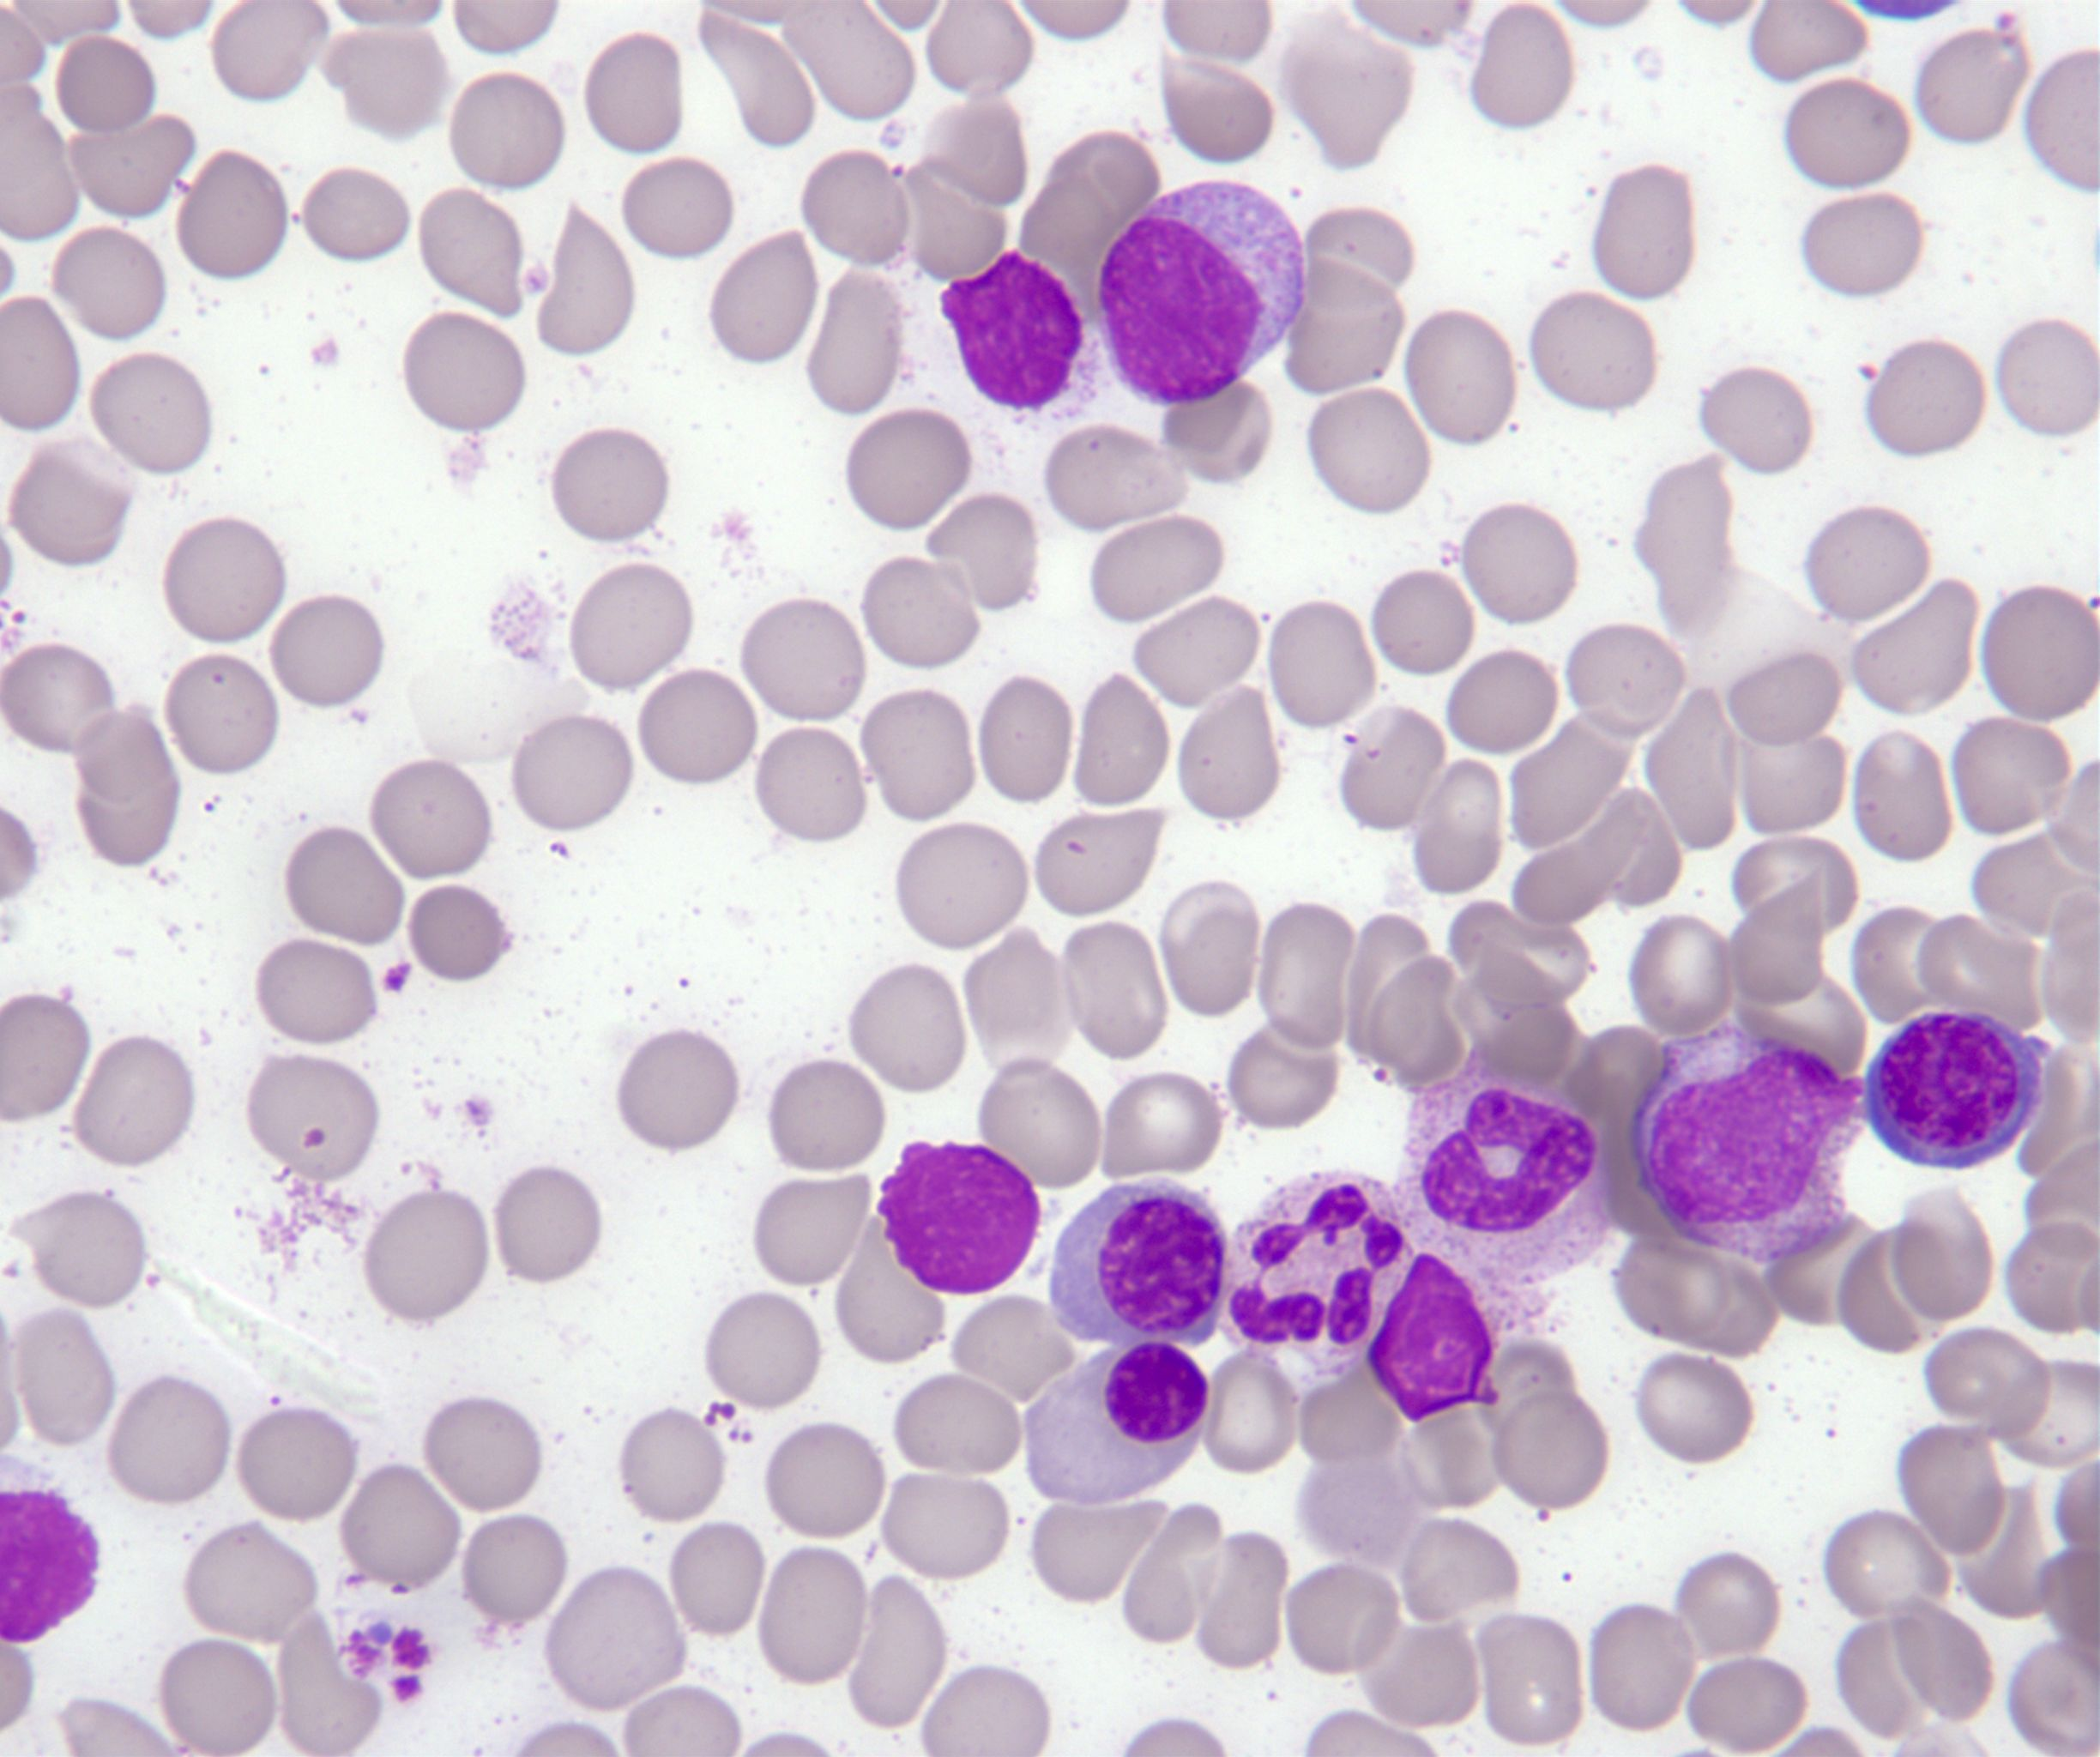23: (1859, 1007, 2053, 1174)
24: (1022, 1338, 1210, 1511), (1047, 1169, 1228, 1343)
3: (1627, 1012, 1861, 1270), (1088, 169, 1306, 414)
5: (1397, 1073, 1620, 1284)
6: (1230, 1171, 1404, 1368)
x: (870, 1134, 1043, 1296), (935, 243, 1090, 415), (1364, 1248, 1507, 1427)
